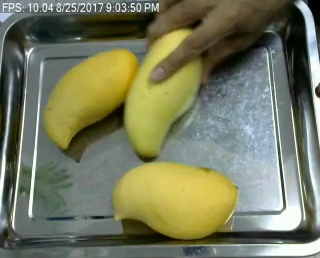Mango: (123, 29, 203, 162), (40, 49, 141, 149), (113, 162, 236, 242)
